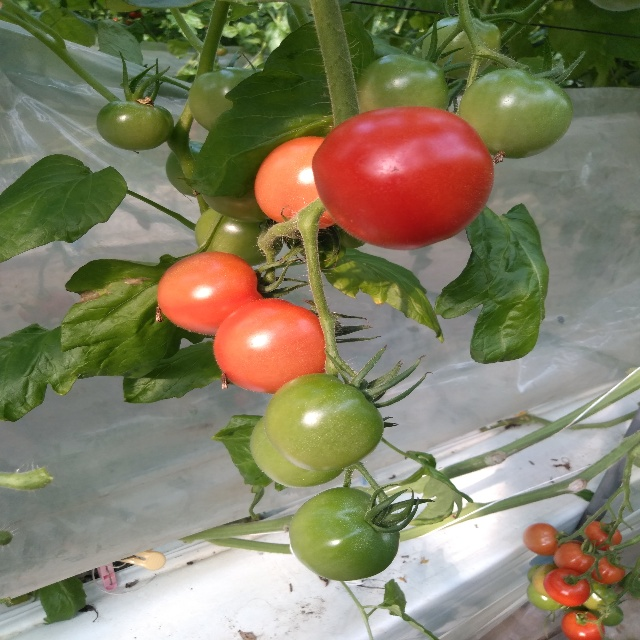l_fully_ripened: (311, 106, 495, 251), (213, 298, 337, 394), (157, 251, 266, 336), (544, 567, 591, 606), (560, 611, 605, 640)
l_green: (263, 373, 385, 472), (287, 487, 401, 581), (458, 68, 574, 159), (249, 416, 348, 489), (355, 53, 451, 114), (195, 208, 284, 267), (423, 16, 500, 79), (187, 67, 262, 131), (96, 99, 174, 151), (201, 189, 272, 223), (166, 141, 203, 197), (526, 582, 565, 610), (533, 562, 558, 599)
l_half_ripened: (255, 137, 338, 229), (553, 540, 597, 574), (522, 523, 561, 556), (582, 521, 622, 551), (591, 556, 625, 584)
